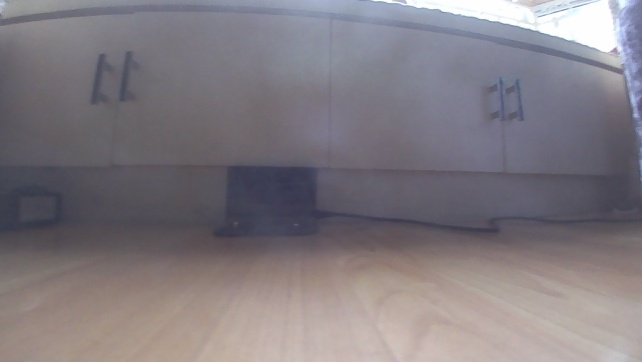cabinet: (0, 0, 641, 226)
charger: (211, 163, 324, 239)
wire: (314, 205, 641, 236)
